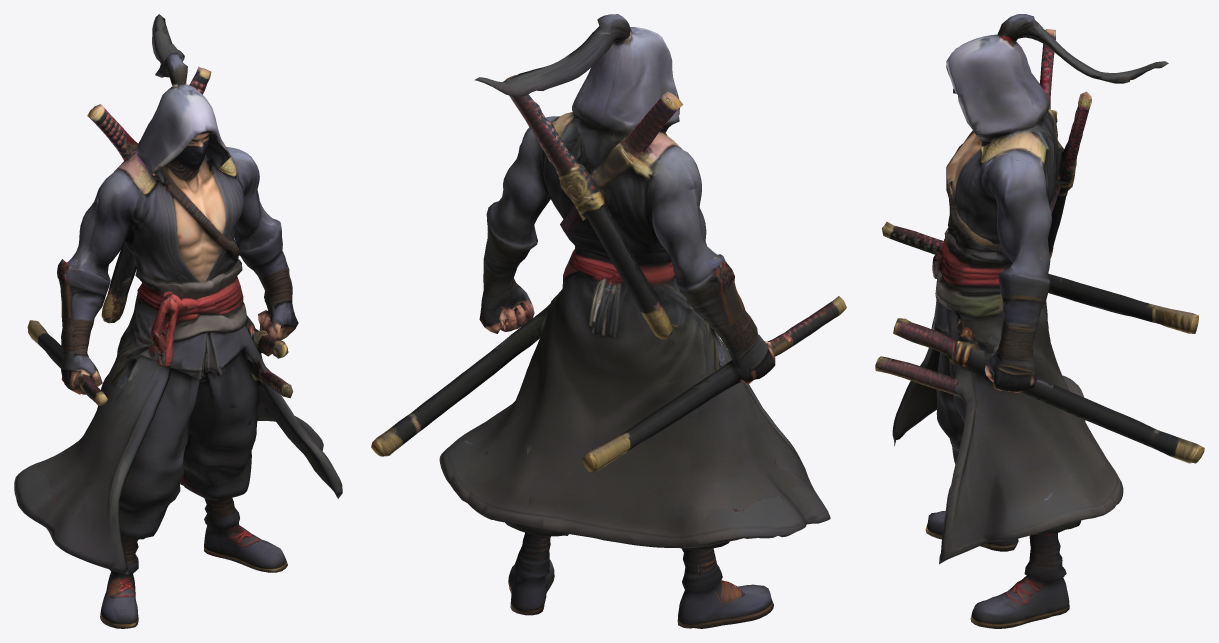
Rendered from Generate_me_a_complet_0402191432_texture.fbx.
The picture shows the model from 3 angles, left to right: view 1: azimuth 30°, elevation 25°; view 2: azimuth 150°, elevation 25°; view 3: azimuth 270°, elevation 25°; orthographic projection. The views are drawn at different scales.
Visible parts, largest first — view 1: Mesh1; view 2: Mesh1; view 3: Mesh1.
Boxes of the visible parts, x1,y1,x2,y2 form: Mesh1: (14, 14, 342, 628); Mesh1: (371, 14, 846, 628); Mesh1: (875, 14, 1204, 628).
Bounding box in the file's own units: 120 × 200 × 106.
1 material, 1 textured.
